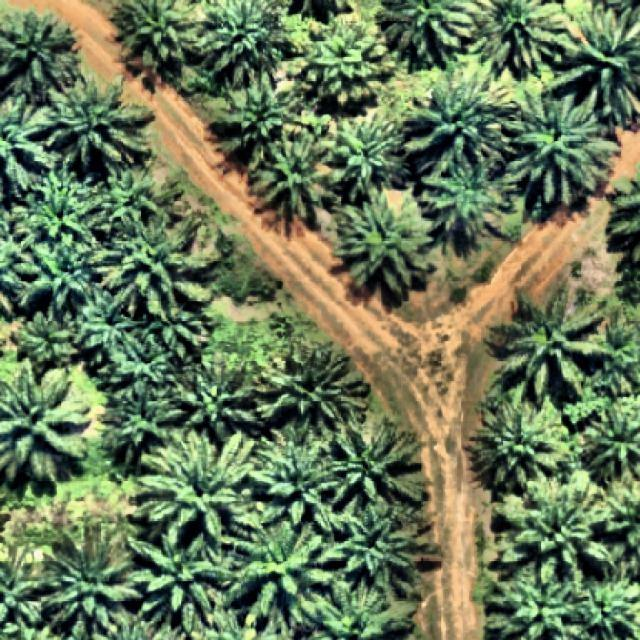Kelapa_Sawit: (485, 275, 610, 403), (128, 429, 262, 543), (91, 211, 220, 326), (500, 87, 623, 207), (407, 61, 525, 182), (24, 70, 156, 176), (498, 468, 620, 582), (35, 521, 146, 640), (328, 186, 438, 302), (124, 527, 236, 635), (229, 514, 337, 620), (257, 343, 371, 442), (321, 410, 427, 512), (204, 66, 312, 162), (416, 146, 522, 242), (466, 398, 562, 497), (302, 13, 396, 107), (319, 107, 410, 204), (248, 438, 337, 536), (176, 348, 262, 444), (246, 130, 334, 221), (15, 169, 103, 260), (113, 378, 190, 478), (16, 238, 99, 314), (92, 163, 186, 226), (111, 322, 178, 396), (11, 310, 80, 378)
